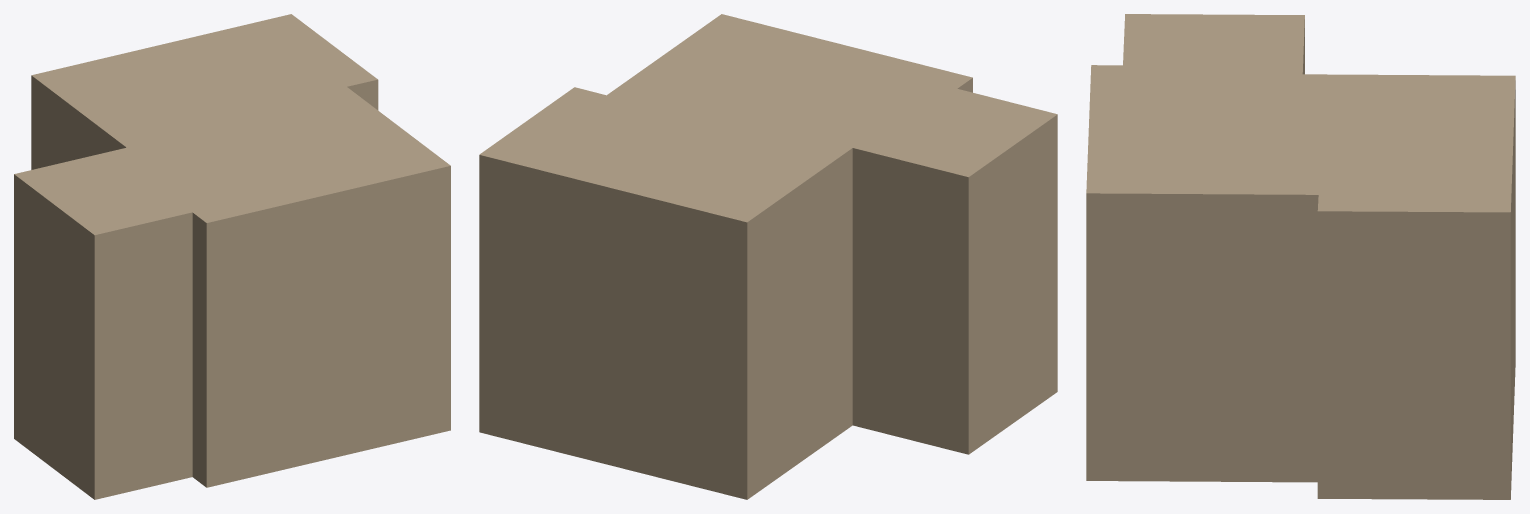
File: bld_106796709.dae
3 views of the same model, side by side, from view 1: azimuth 30°, elevation 25°; view 2: azimuth 150°, elevation 25°; view 3: azimuth 270°, elevation 25° (orthographic). The views are drawn at different scales.
Parts seen in each view (by area): view 1: bld_106796709; view 2: bld_106796709; view 3: bld_106796709.
Part boxes in pixels (<box>): bld_106796709: <box>14,14,450,499</box>; bld_106796709: <box>479,14,1057,499</box>; bld_106796709: <box>1086,14,1515,499</box>.
Size of the model in its own units: 11.84 by 10.83 by 8.
